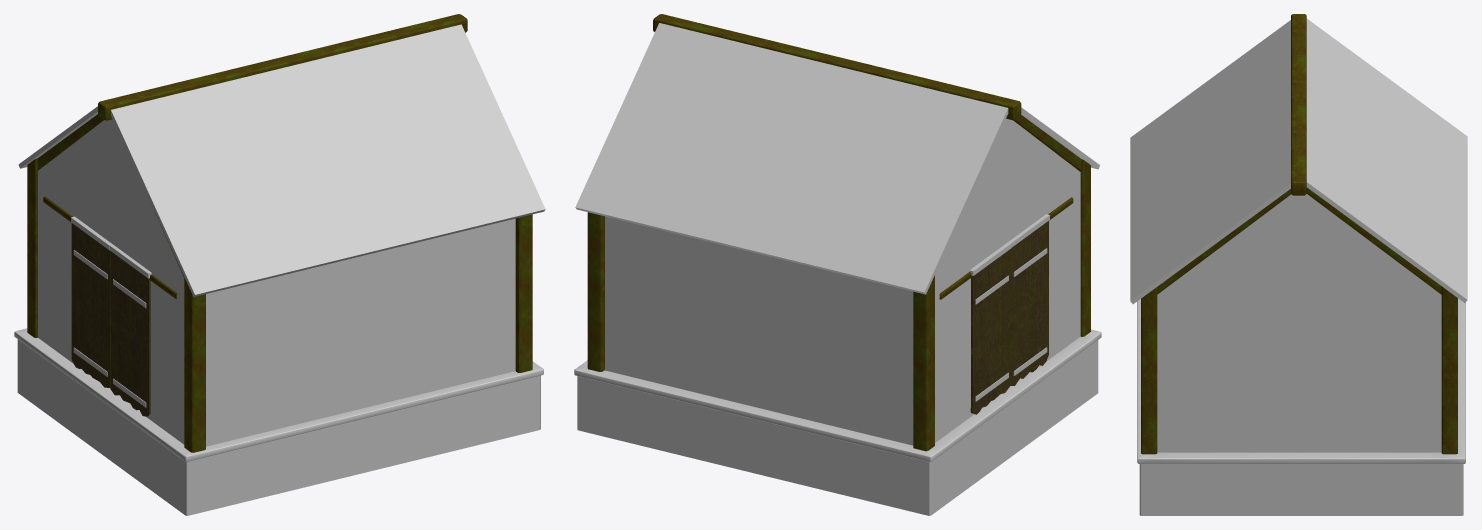
Rendered from GalpaoMini_30mai.fbx.
3 renders of one model, left to right at view 1: azimuth 30°, elevation 25°; view 2: azimuth 150°, elevation 25°; view 3: azimuth 270°, elevation 25°, orthographic. The views are drawn at different scales.
Visible parts, largest first — view 1: pCube717; view 2: pCube717; view 3: pCube717.
Part boxes in pixels (x1,y1,x2,y2): pCube717: (14,14,545,515); pCube717: (574,14,1101,515); pCube717: (1130,14,1467,515).
Size of the model in its own units: 723 by 669 by 608.
